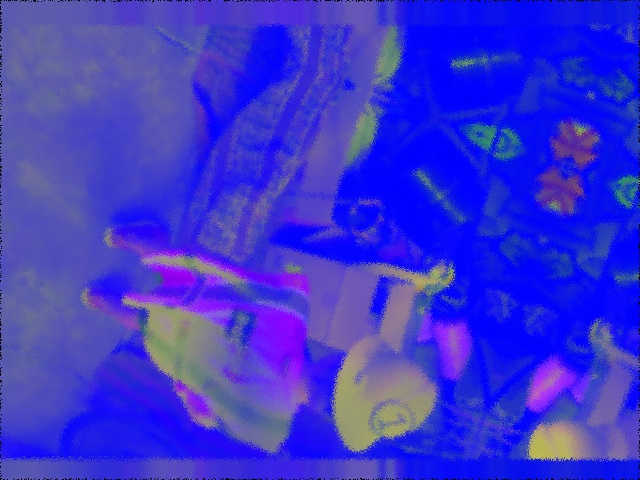one: (366, 394, 419, 446)
